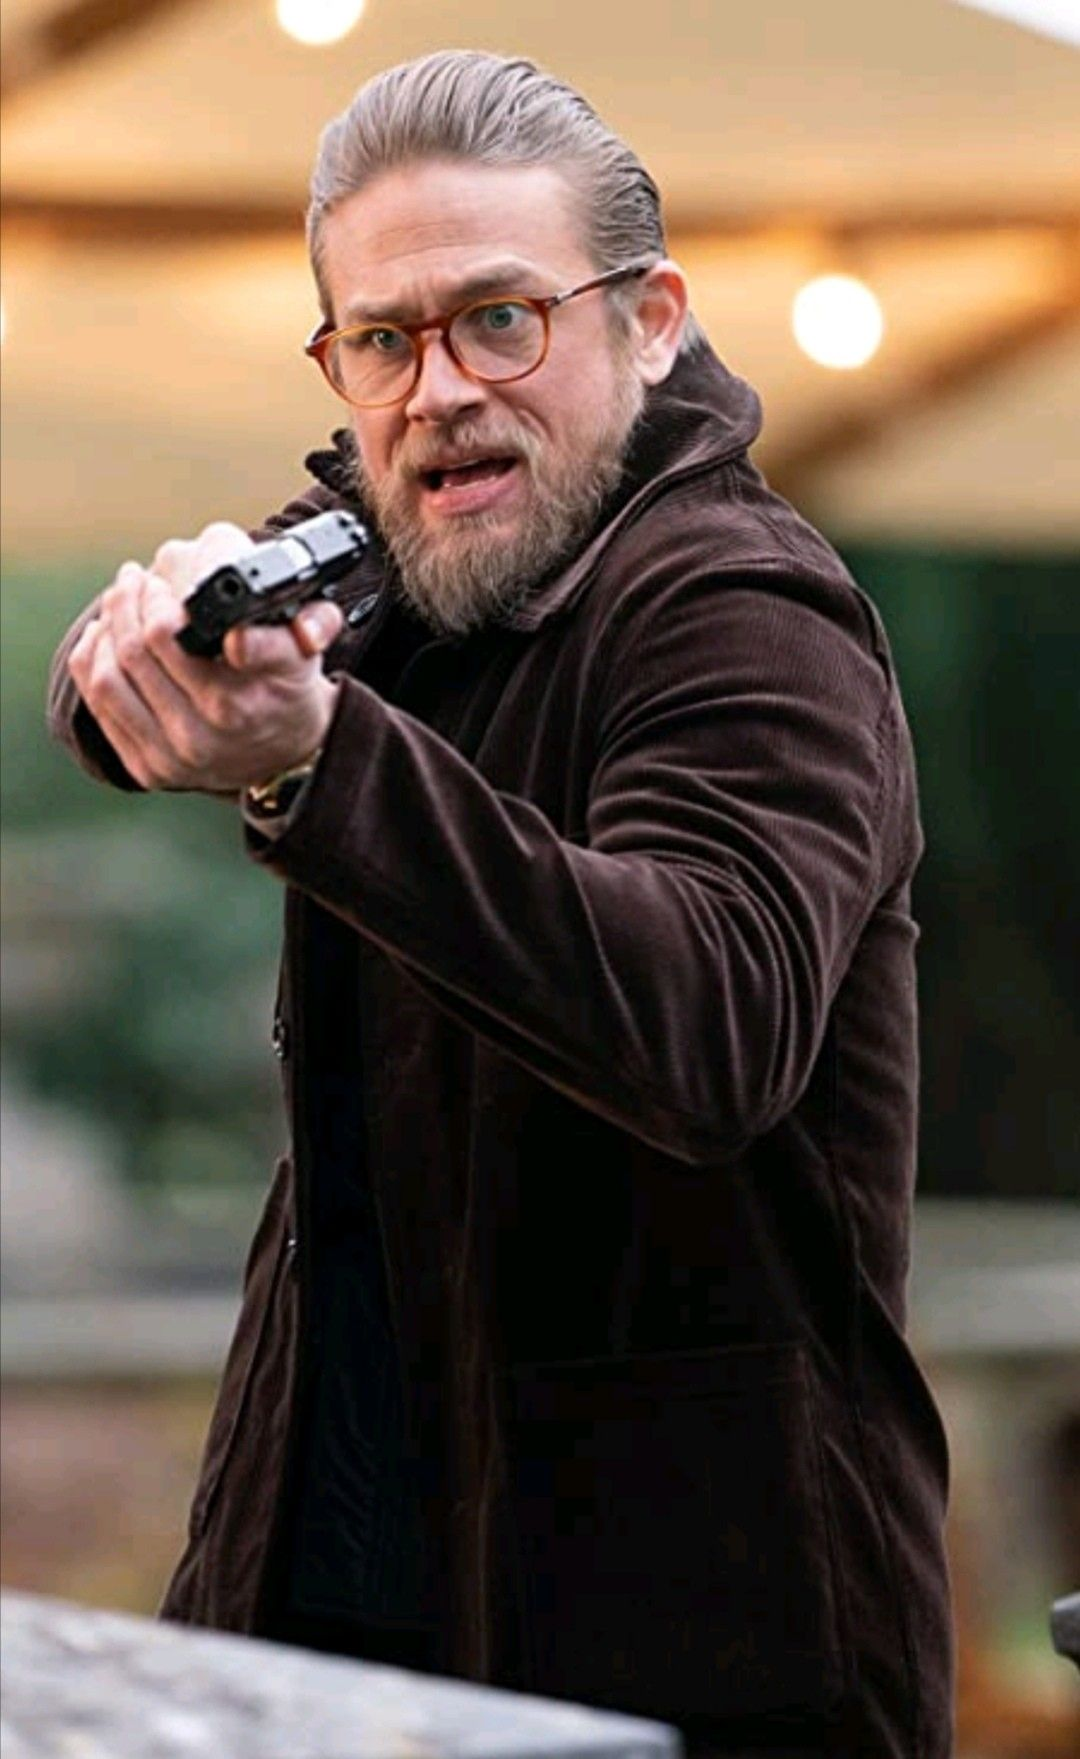gun: (174, 502, 395, 668)
person: (37, 36, 977, 1759)
